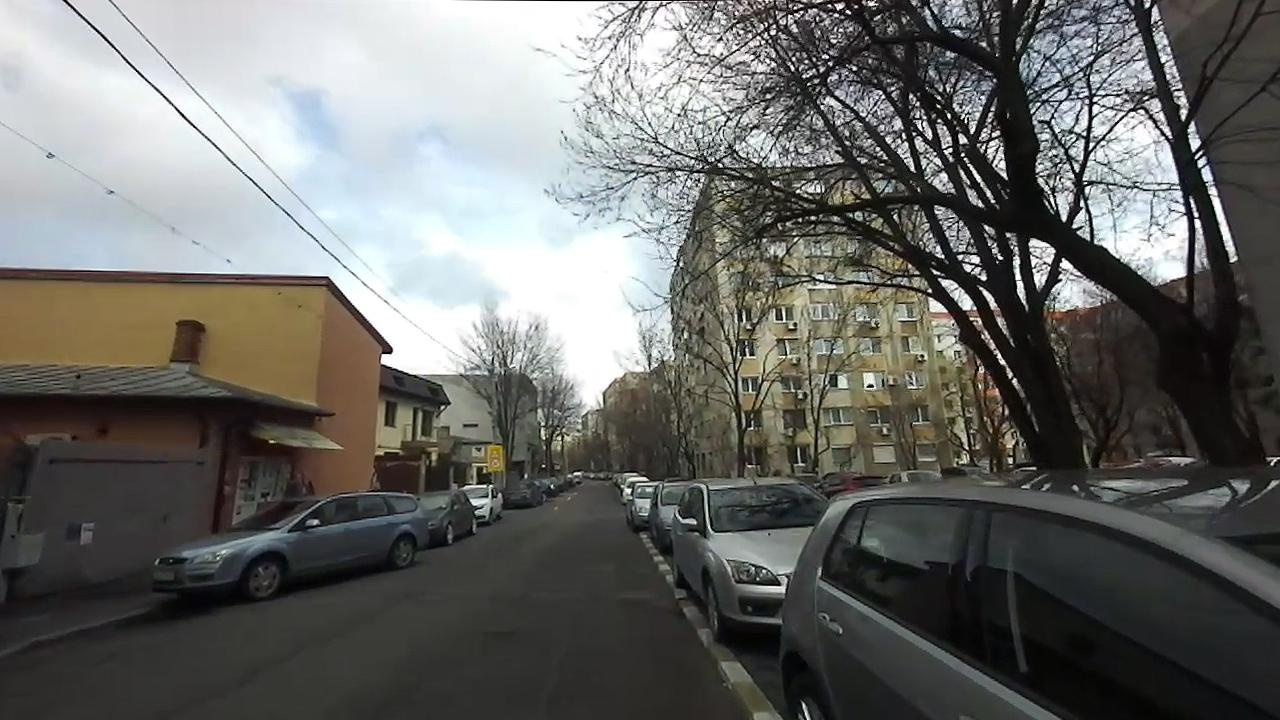pothole: (474, 622, 519, 648)
